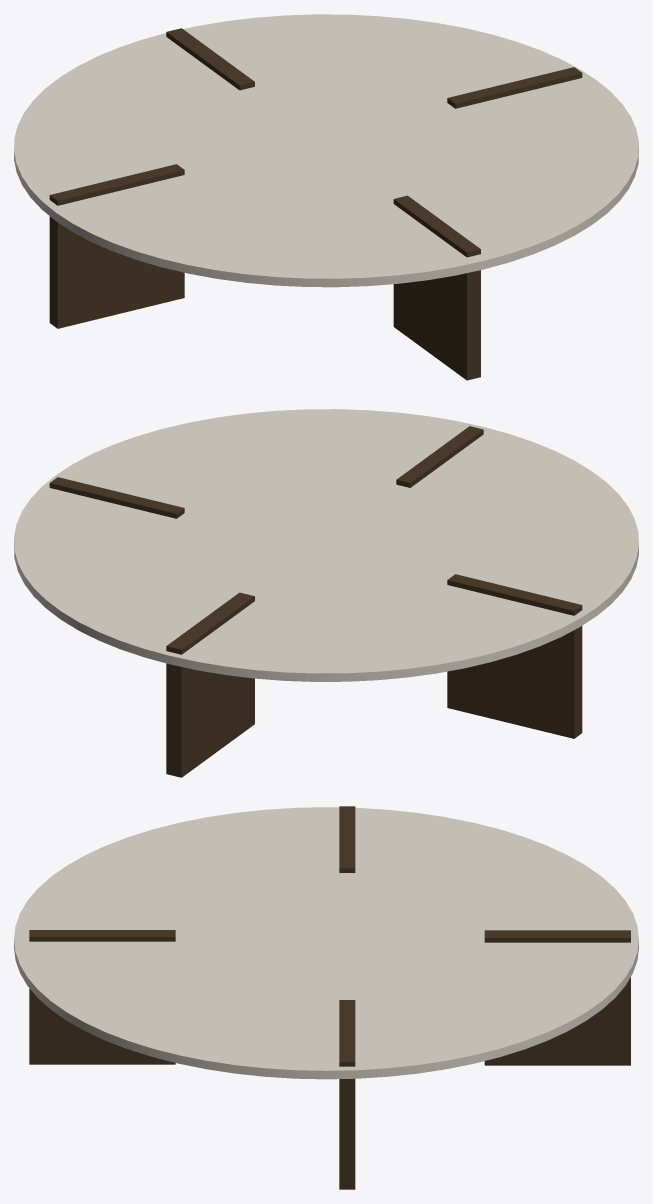
3 views of the same model, one above another, from view 1: azimuth 30°, elevation 25°; view 2: azimuth 150°, elevation 25°; view 3: azimuth 270°, elevation 25° (orthographic).
Parts seen in each view (by area): view 1: low_table; view 2: low_table; view 3: low_table.
Boxes of the visible parts, box(x1,y1,x2,y2) form: low_table: box(14, 14, 638, 380); low_table: box(14, 409, 638, 777); low_table: box(14, 806, 638, 1189).
Size of the model in its own units: 1.2 by 0.2706 by 1.2.
